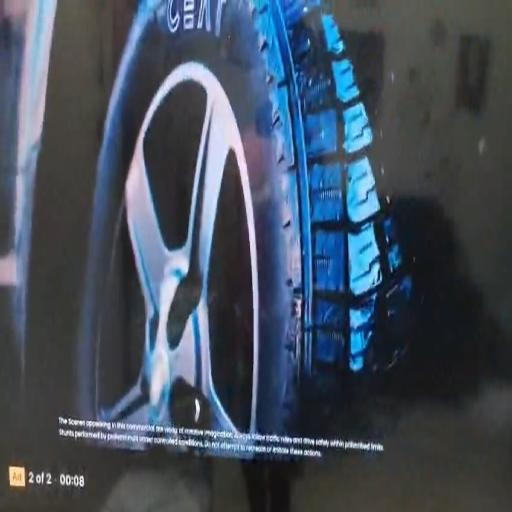ad label: (10, 465, 26, 490)
